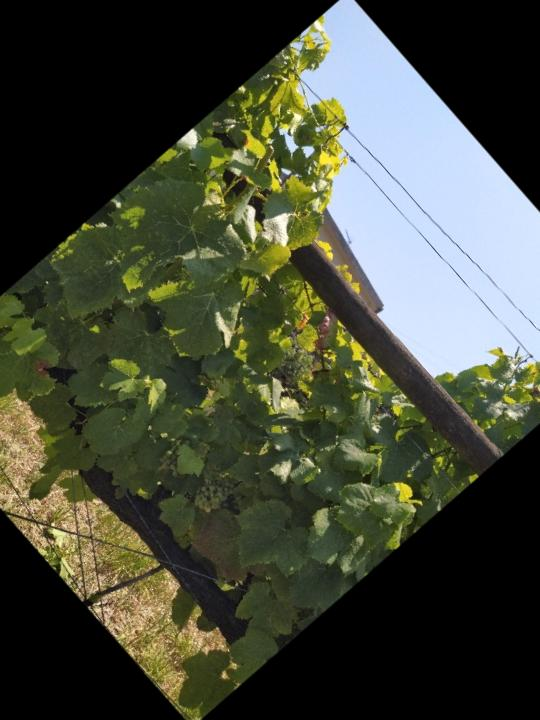grape: (183, 463, 242, 521)
